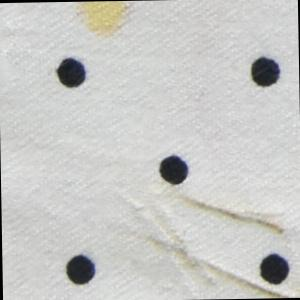Oil Stain: (120, 183, 300, 300)
Stain: (74, 2, 130, 42)
